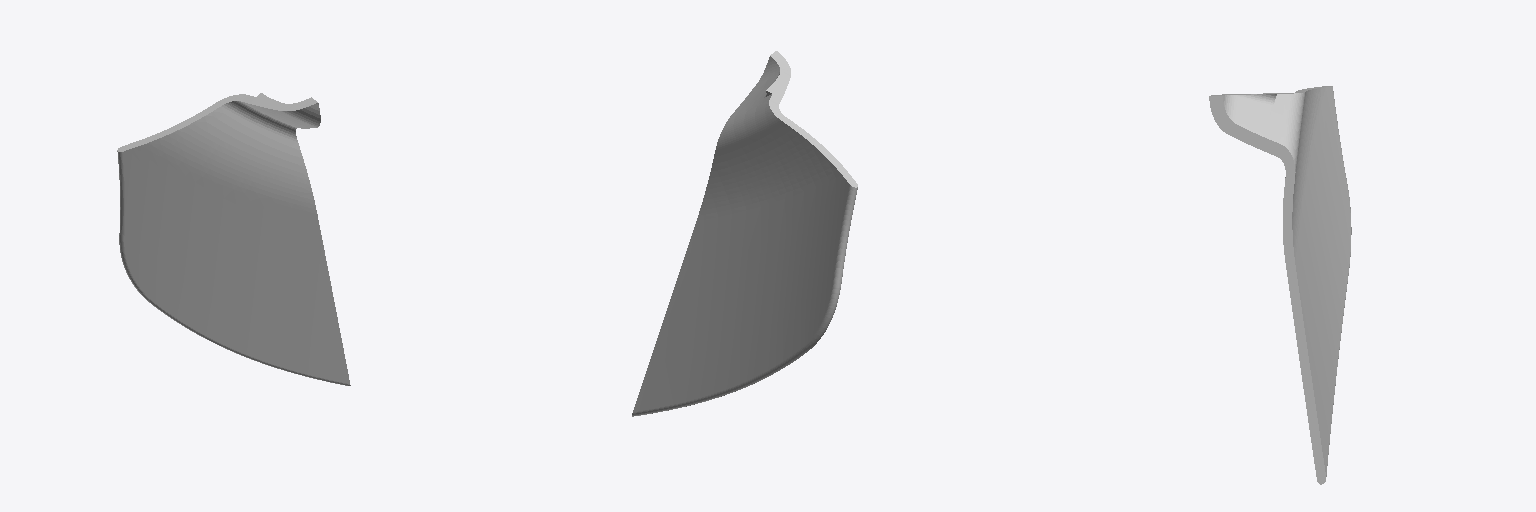
The model's file is Body17.obj.
The picture shows the model from 3 angles: view 1: azimuth 30°, elevation 25°; view 2: azimuth 150°, elevation 25°; view 3: azimuth 270°, elevation 25°; orthographic projection.
Parts seen in each view (by area): view 1: Body17; view 2: Body17; view 3: Body17.
Boxes of the visible parts, x1,y1,x2,y2 form: Body17: [117, 93, 350, 385]; Body17: [632, 51, 857, 416]; Body17: [1209, 86, 1351, 484].
Bounding box in the file's own units: 0.5539 × 0.8049 × 0.3014.